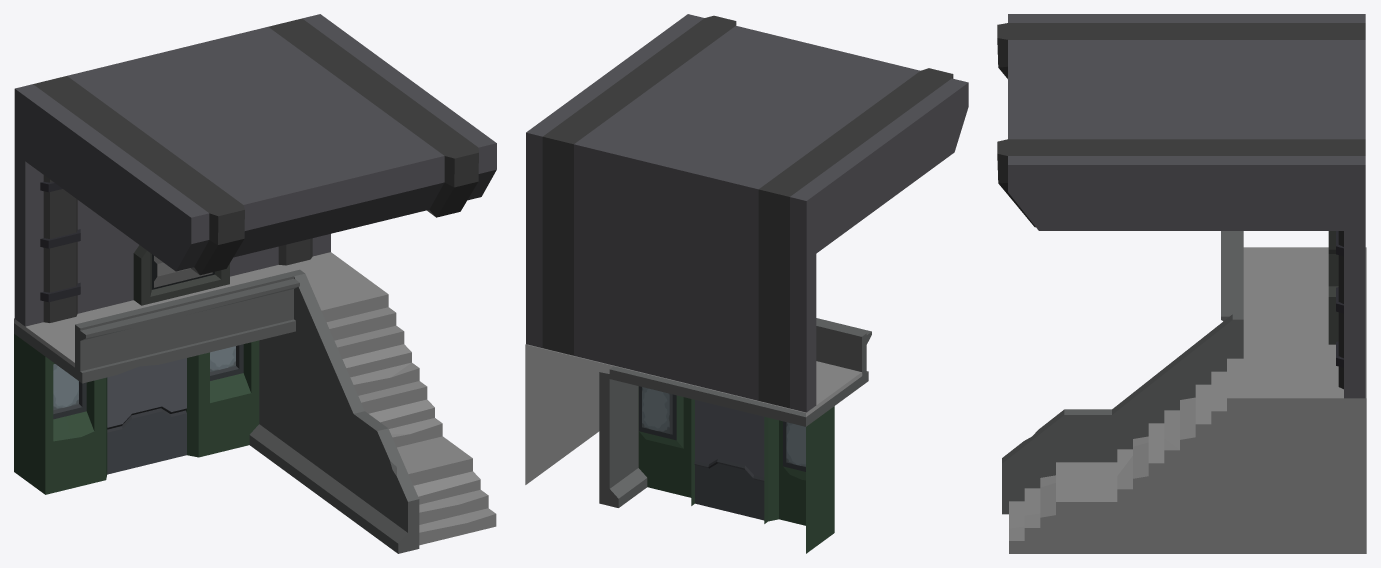
File: city_SM_Bld_Raised_02.gltf
The picture shows the model from 3 angles, left to right: view 1: azimuth 30°, elevation 25°; view 2: azimuth 150°, elevation 25°; view 3: azimuth 270°, elevation 25°; orthographic projection. The views are drawn at different scales.
Parts seen in each view (by area): view 1: SM_Bld_Raised_02; view 2: SM_Bld_Raised_02; view 3: SM_Bld_Raised_02.
Part boxes in pixels (bbox=[...]): SM_Bld_Raised_02: bbox=[14, 14, 496, 553]; SM_Bld_Raised_02: bbox=[525, 14, 968, 553]; SM_Bld_Raised_02: bbox=[997, 14, 1366, 553].
Bounding box in the file's own units: 5 × 6 × 5.17.
1 material, 1 textured.
